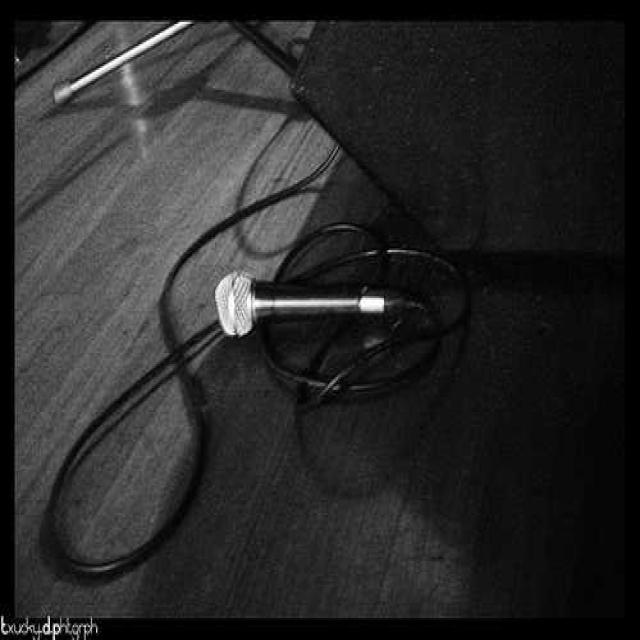microphone: (210, 265, 411, 338)
